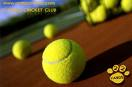tennis ball: (39, 37, 90, 86), (10, 37, 34, 62), (85, 4, 109, 25), (41, 22, 63, 38), (79, 1, 99, 12)
